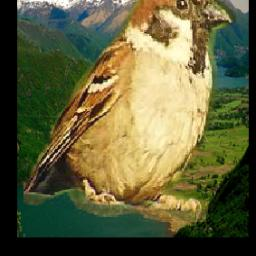Sparrow: (23, 0, 235, 222)
